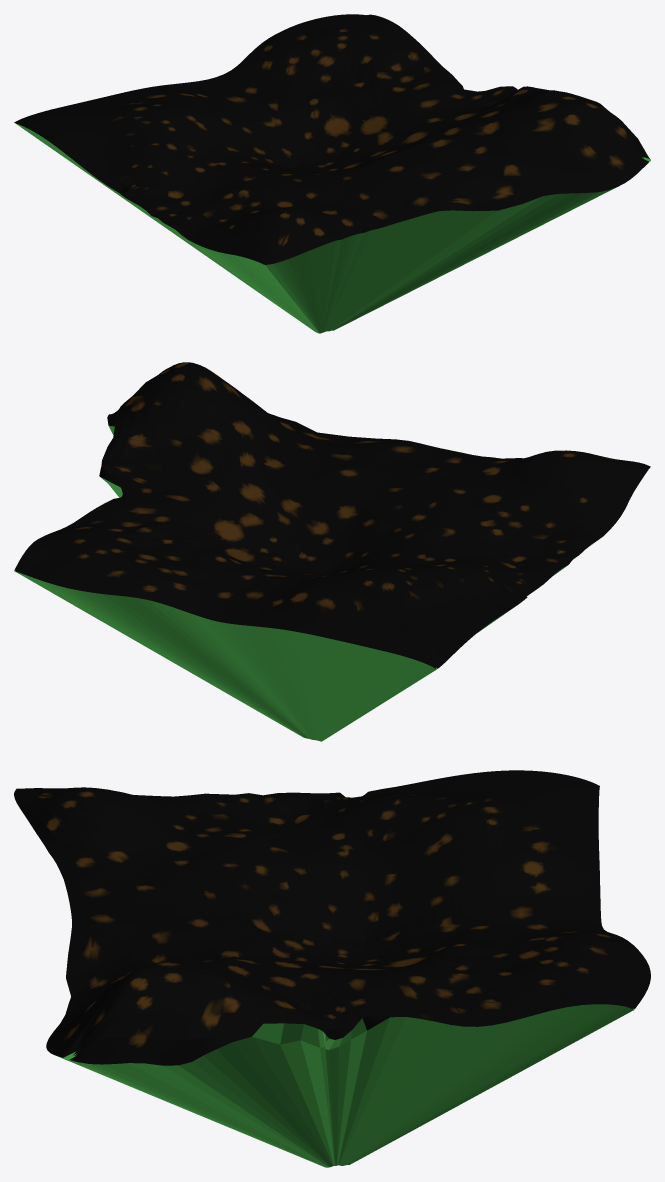
File: Island 1.fbx
3 views of the same model, one above another, from view 1: azimuth 30°, elevation 25°; view 2: azimuth 150°, elevation 25°; view 3: azimuth 270°, elevation 25° (orthographic). The views are drawn at different scales.
Parts seen in each view (by area): view 1: IsLand_Top, IsLand_Bottom; view 2: IsLand_Top, IsLand_Bottom; view 3: IsLand_Top, IsLand_Bottom.
Part boxes in pixels (box(x1,y1,x2,y2)): IsLand_Top: box(14, 14, 649, 264); IsLand_Bottom: box(14, 15, 650, 333); IsLand_Top: box(14, 362, 650, 668); IsLand_Bottom: box(14, 425, 595, 741); IsLand_Top: box(14, 770, 650, 1065); IsLand_Bottom: box(56, 785, 634, 1167).
Size of the model in its own units: 72506 by 36189 by 67810.
